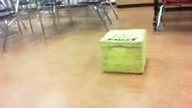cube: (100, 28, 146, 74)
